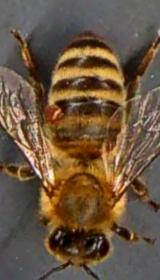varroa_mite: (38, 96, 66, 125)
